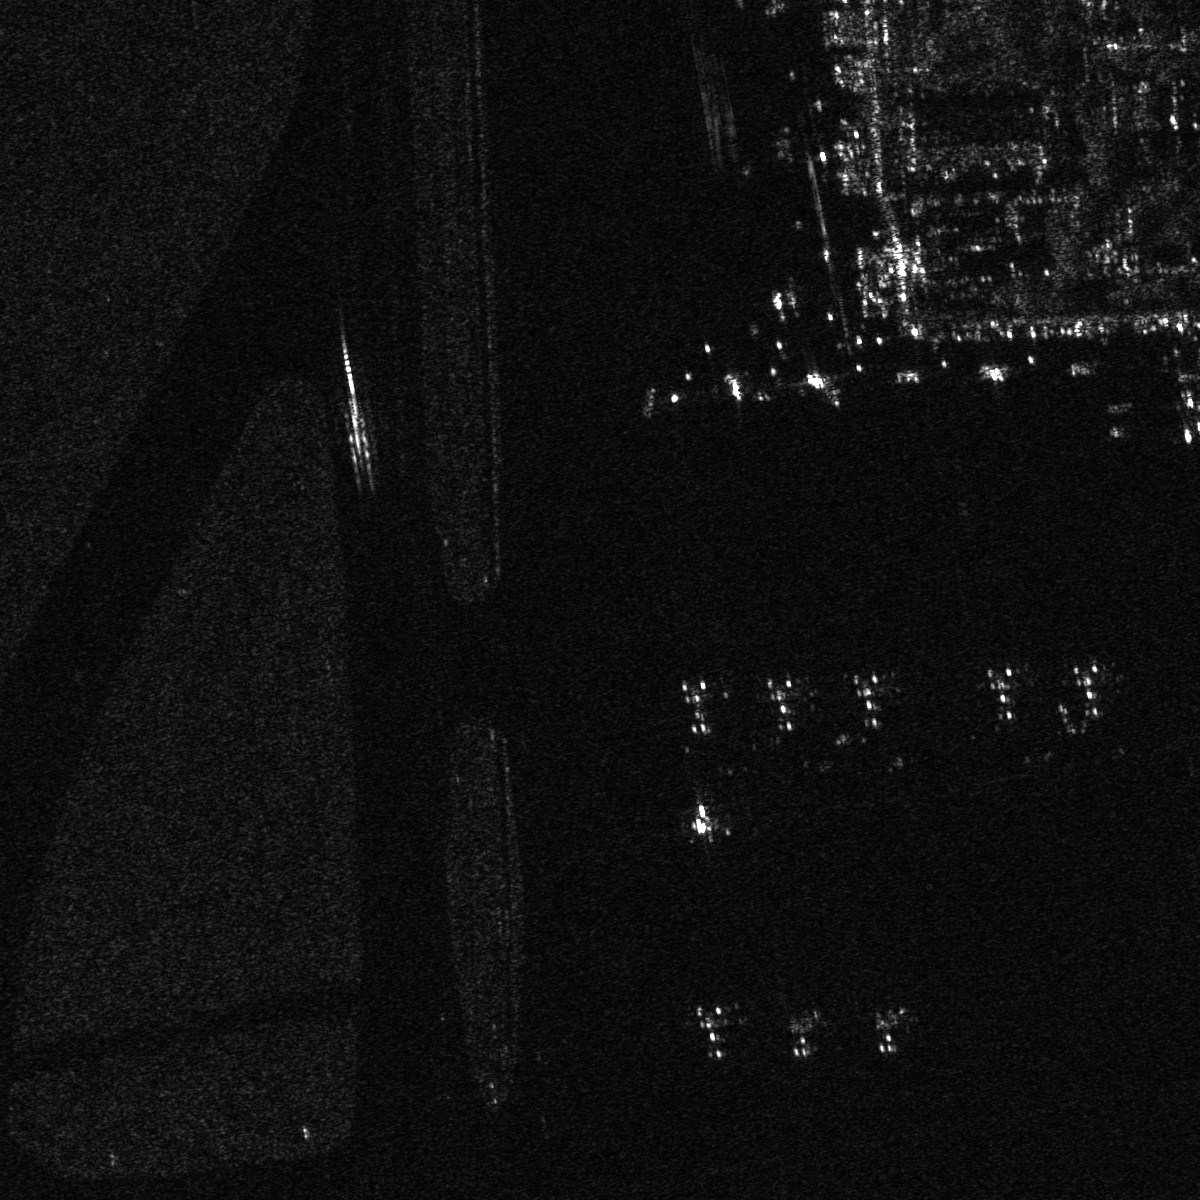A220: (775, 1000, 826, 1062)
A320/321: (862, 1000, 915, 1058)
ARJ21: (676, 996, 745, 1064), (1157, 366, 1199, 446), (673, 792, 727, 848)
Boeing737: (789, 362, 855, 412)
other: (1052, 655, 1122, 725), (838, 663, 900, 738), (669, 673, 729, 738), (757, 665, 808, 738), (975, 659, 1024, 729)
